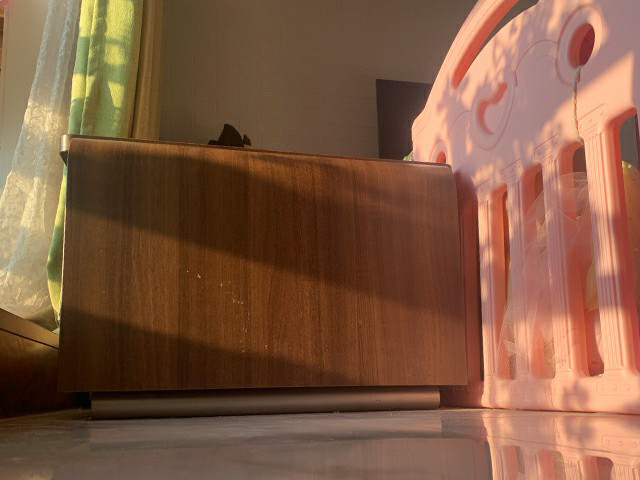table: (56, 133, 469, 422)
